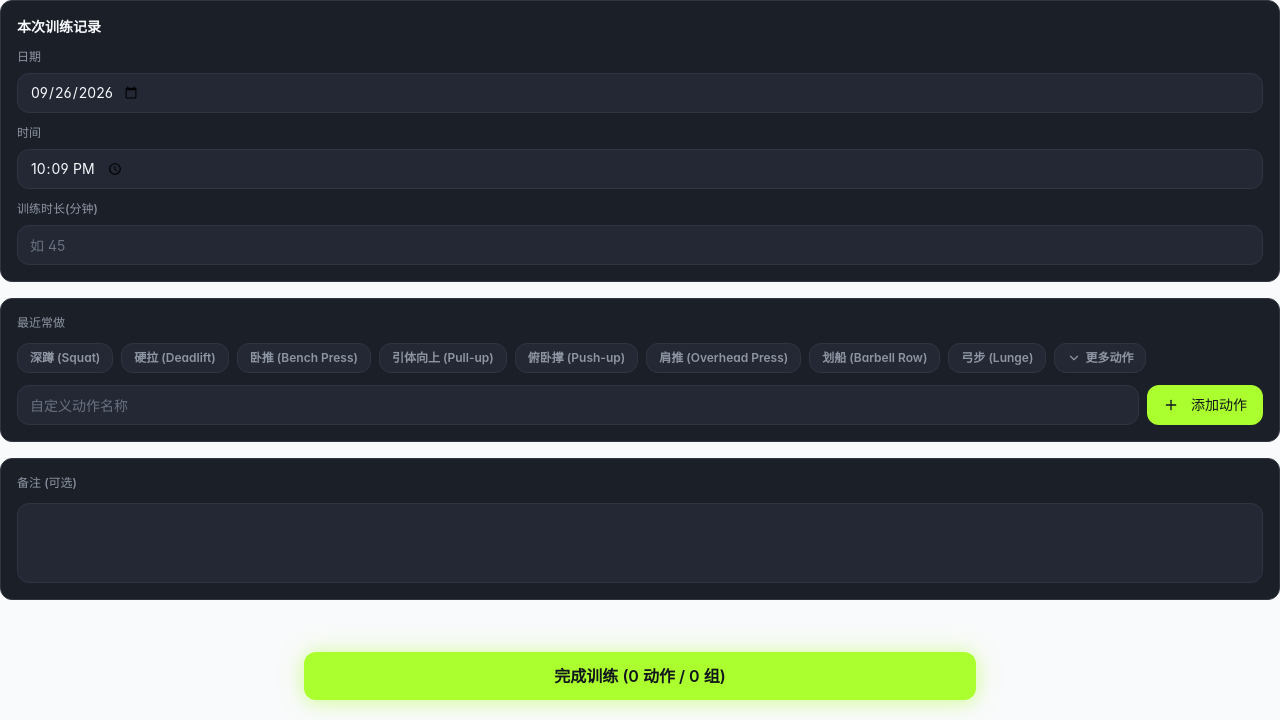
Test case: StrengthForm (力量训练统一表单) › 校验:次数为 0 时保存被拦截并提示
The width and height of the screenshot is (1280, 720).
Click the button "深蹲 (Squat)": (65, 358) [17,343,113,373]
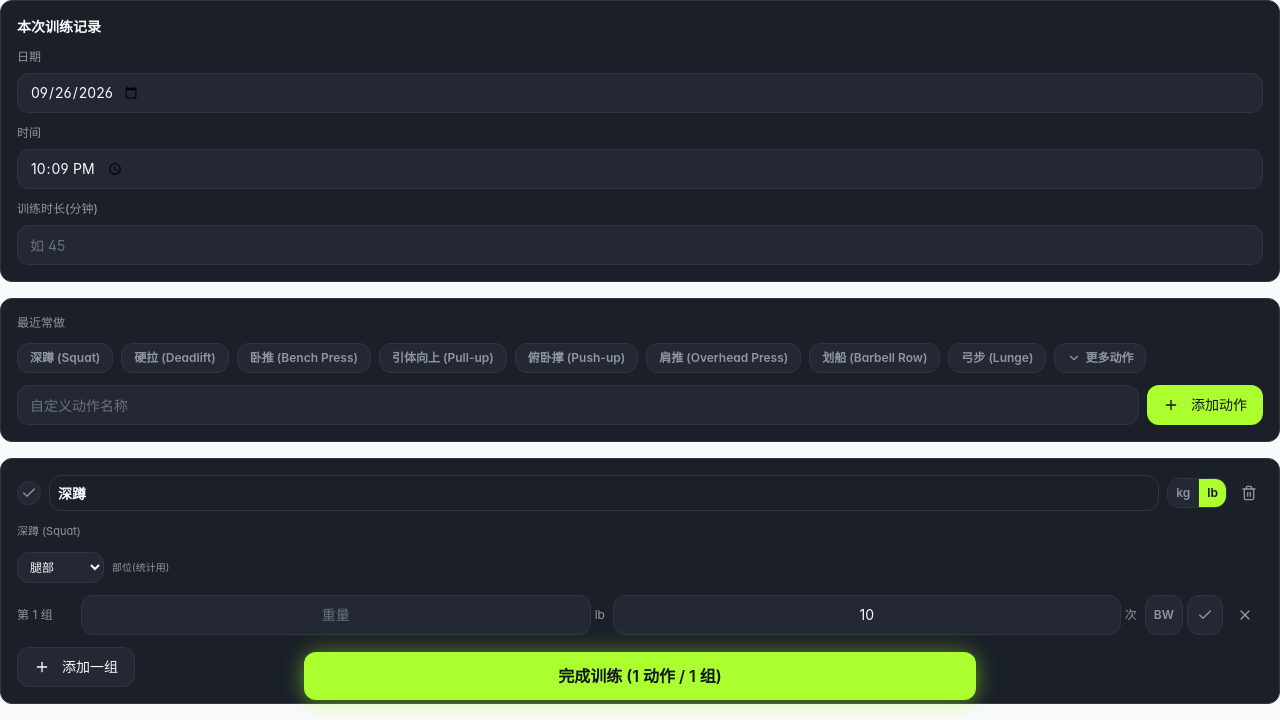
Replace the text in the field with placeholder "次数" with "0": (867, 614) [613,594,1121,634]
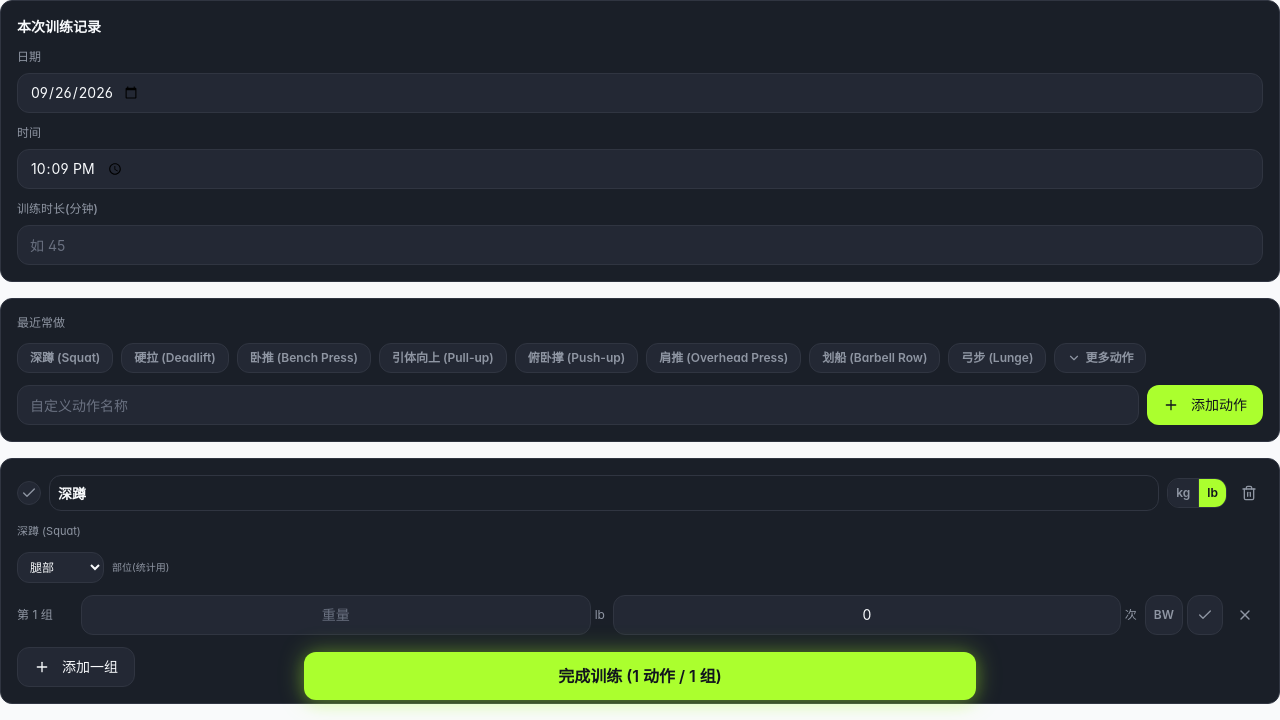
Click the button "完成训练 (1 动作 / 1 组)": (640, 676) [304,652,976,700]
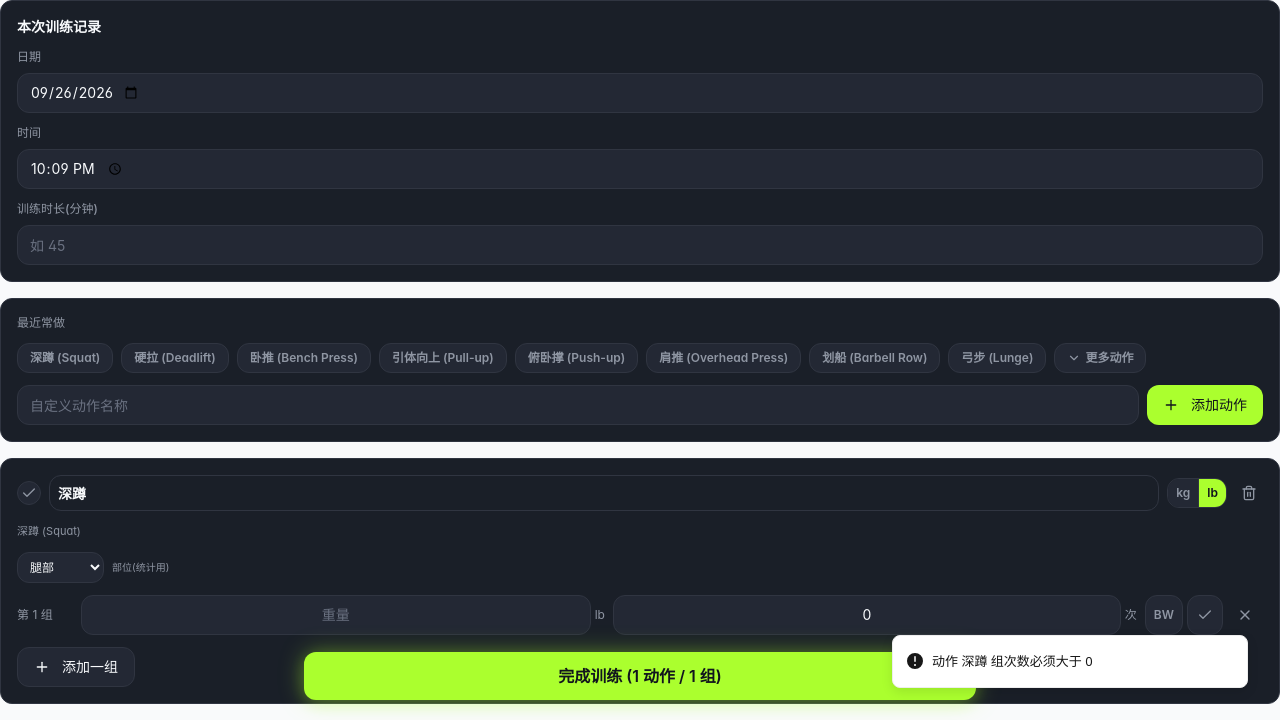
Expected: the text "动作 深蹲 组次数必须大于 0" is shown, [932,652,1093,671]
